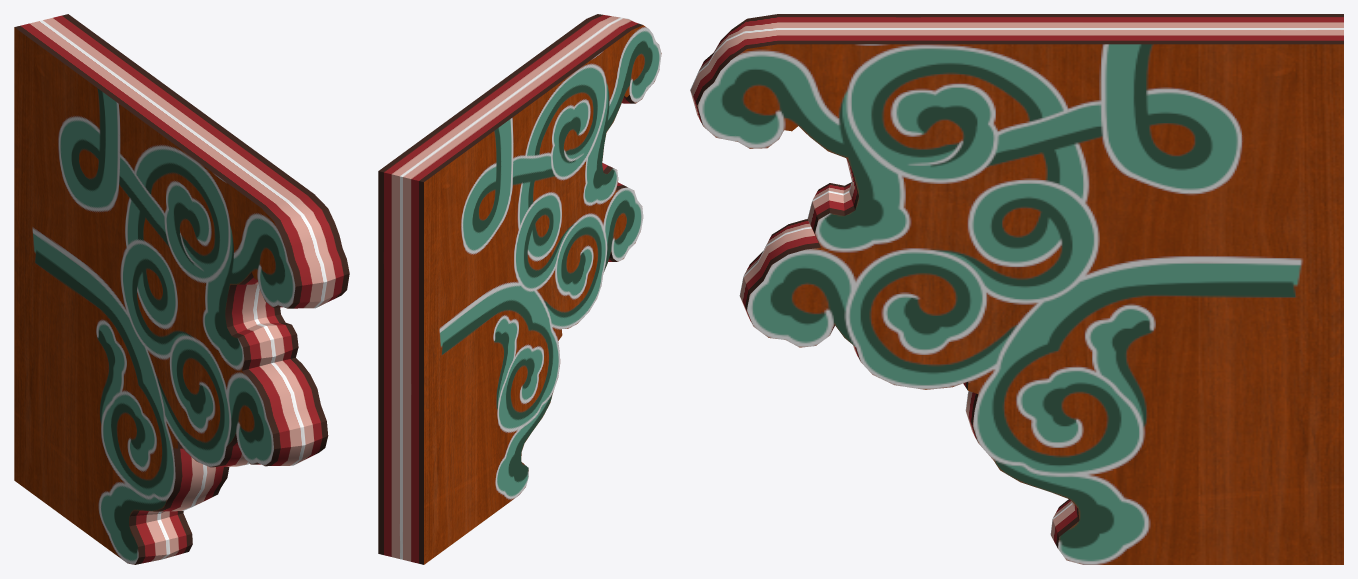
Rendered from SM_Gongpo04E.fbx.
3 renders of one model, left to right at view 1: azimuth 30°, elevation 25°; view 2: azimuth 150°, elevation 25°; view 3: azimuth 270°, elevation 25°, orthographic. The views are drawn at different scales.
Visible parts, largest first — view 1: SM_Gongpo04E; view 2: SM_Gongpo04E; view 3: SM_Gongpo04E.
Part boxes in pixels (x1,y1,x2,y2): SM_Gongpo04E: (14,14,349,564); SM_Gongpo04E: (378,14,661,564); SM_Gongpo04E: (690,14,1343,564).
Bounding box in the file's own units: 6.75 × 61.49 × 54.04.
